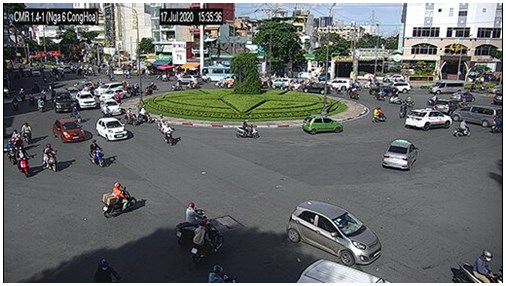xe_buyt: (200, 66, 242, 81)
xe_hoi: (286, 198, 381, 266), (293, 259, 391, 283), (382, 138, 418, 171), (404, 109, 452, 132), (452, 106, 502, 128), (95, 118, 129, 142), (304, 116, 345, 135), (94, 83, 124, 97), (76, 91, 95, 110), (436, 98, 459, 113), (101, 99, 122, 115), (302, 83, 330, 95), (329, 77, 353, 90), (100, 91, 121, 102), (272, 77, 297, 86), (453, 90, 473, 101), (381, 74, 404, 83), (390, 82, 410, 91), (488, 85, 500, 92)
xe_khach: (52, 88, 72, 112), (430, 79, 464, 92)
xe_may: (176, 201, 210, 246), (456, 250, 502, 282), (193, 220, 224, 264), (102, 181, 137, 216), (208, 265, 239, 284), (95, 258, 118, 282), (89, 138, 104, 168), (42, 144, 58, 172), (236, 119, 258, 139), (16, 146, 30, 177), (162, 122, 175, 147), (136, 104, 151, 125), (455, 119, 470, 139), (23, 122, 34, 146), (372, 106, 386, 123), (6, 141, 15, 166), (9, 128, 20, 145), (124, 108, 135, 124), (492, 116, 503, 132), (70, 107, 81, 121), (185, 78, 199, 89), (373, 88, 385, 99), (404, 95, 414, 108), (18, 88, 26, 104), (427, 94, 438, 105), (389, 90, 398, 103), (36, 96, 43, 112), (349, 87, 359, 98), (225, 78, 235, 88), (28, 94, 34, 110), (400, 102, 406, 118), (13, 97, 20, 110), (171, 81, 181, 90), (215, 77, 223, 87), (148, 81, 156, 90), (144, 86, 152, 94), (114, 92, 120, 102)
